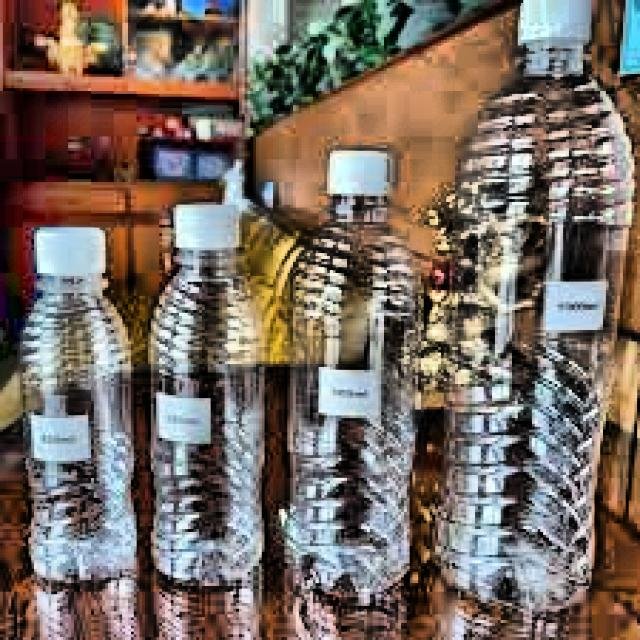plastic bottle: (440, 76, 631, 607), (284, 151, 414, 592), (151, 205, 264, 584), (20, 228, 134, 582)
